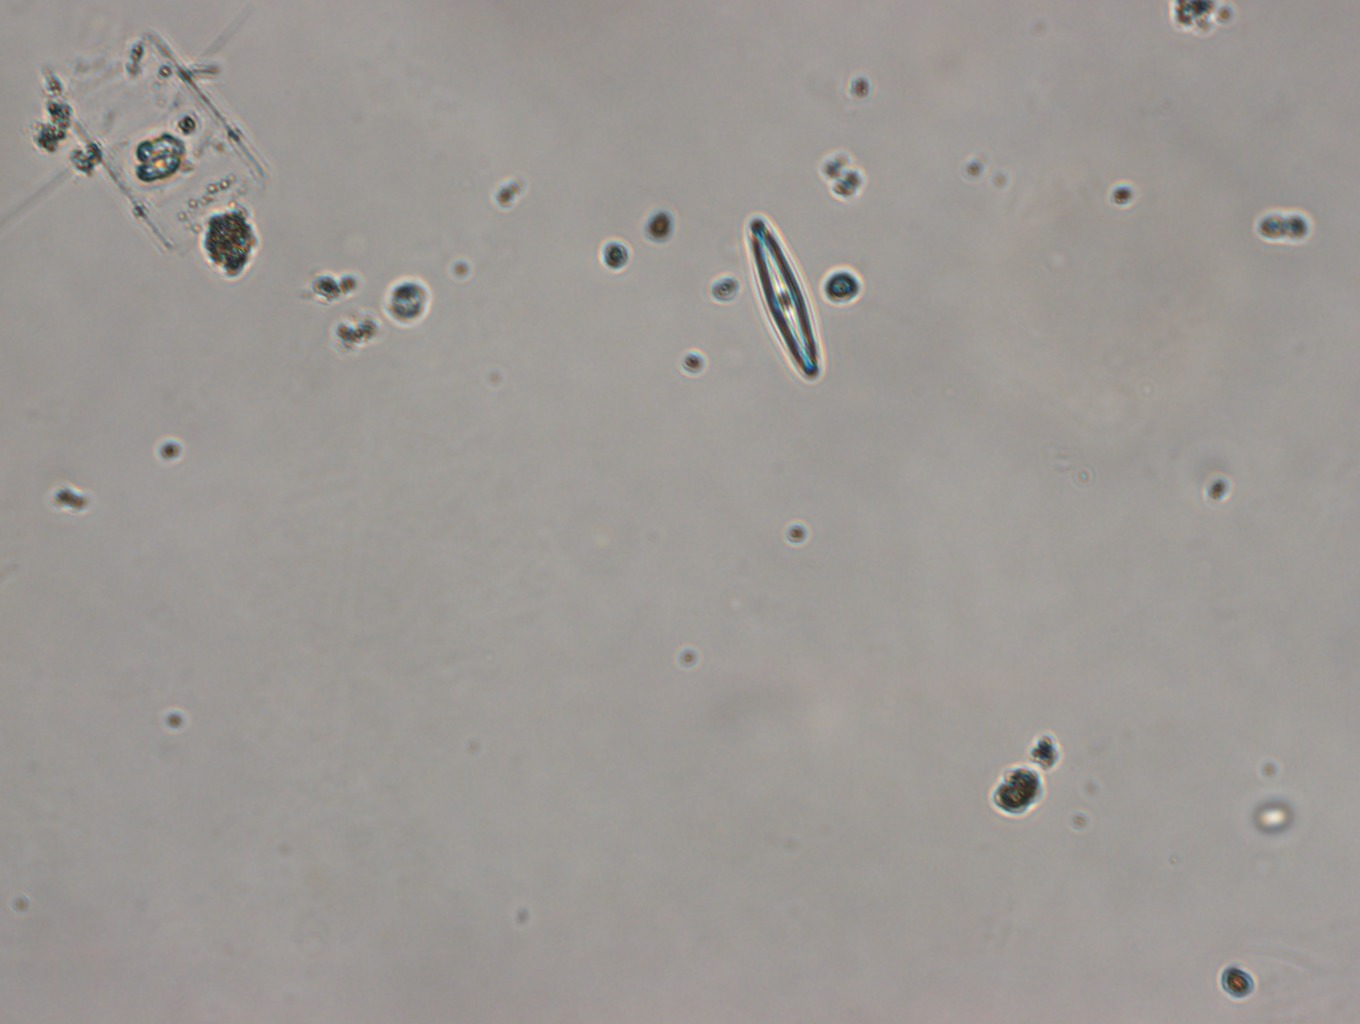navicula: (738, 210, 828, 390)
